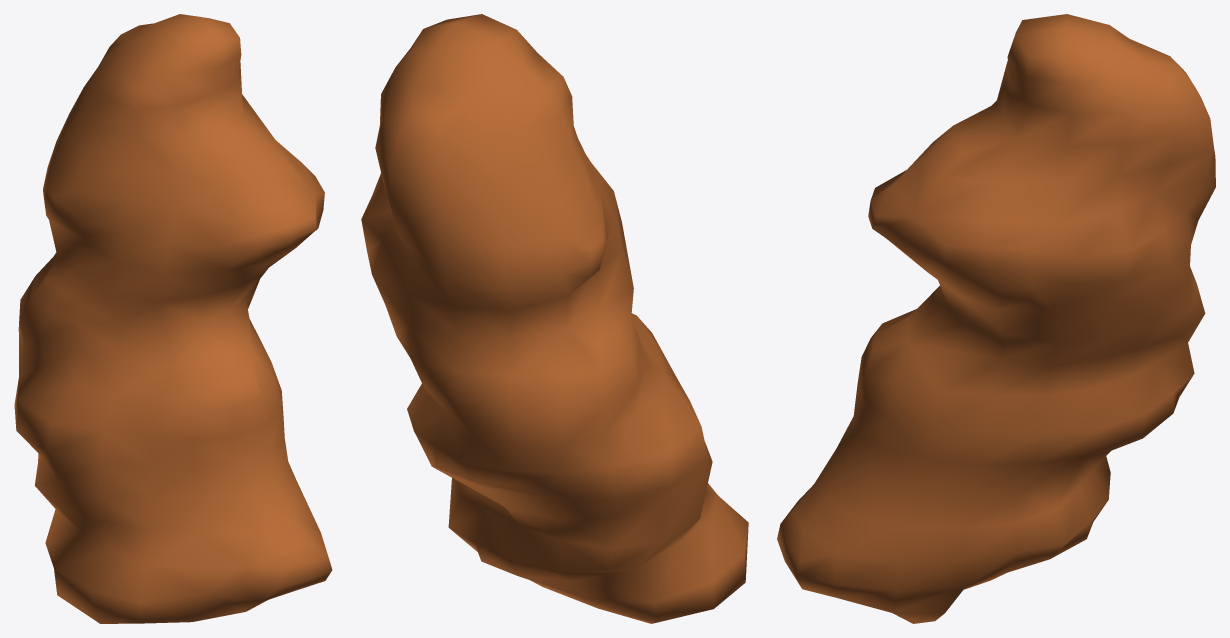
File: Rock02Smooth.glb
3 renders of one model, left to right at view 1: azimuth 30°, elevation 25°; view 2: azimuth 150°, elevation 25°; view 3: azimuth 270°, elevation 25°, orthographic. The views are drawn at different scales.
Visible parts, largest first — view 1: Rock 2; view 2: Rock 2; view 3: Rock 2.
Boxes of the visible parts, bbox=[...] form: Rock 2: bbox=[14, 14, 332, 623]; Rock 2: bbox=[361, 14, 748, 623]; Rock 2: bbox=[777, 14, 1215, 623].
Bounding box in the file's own units: 3.19 × 5.9 × 3.92.
Materials: 1 (1 with a texture image).
